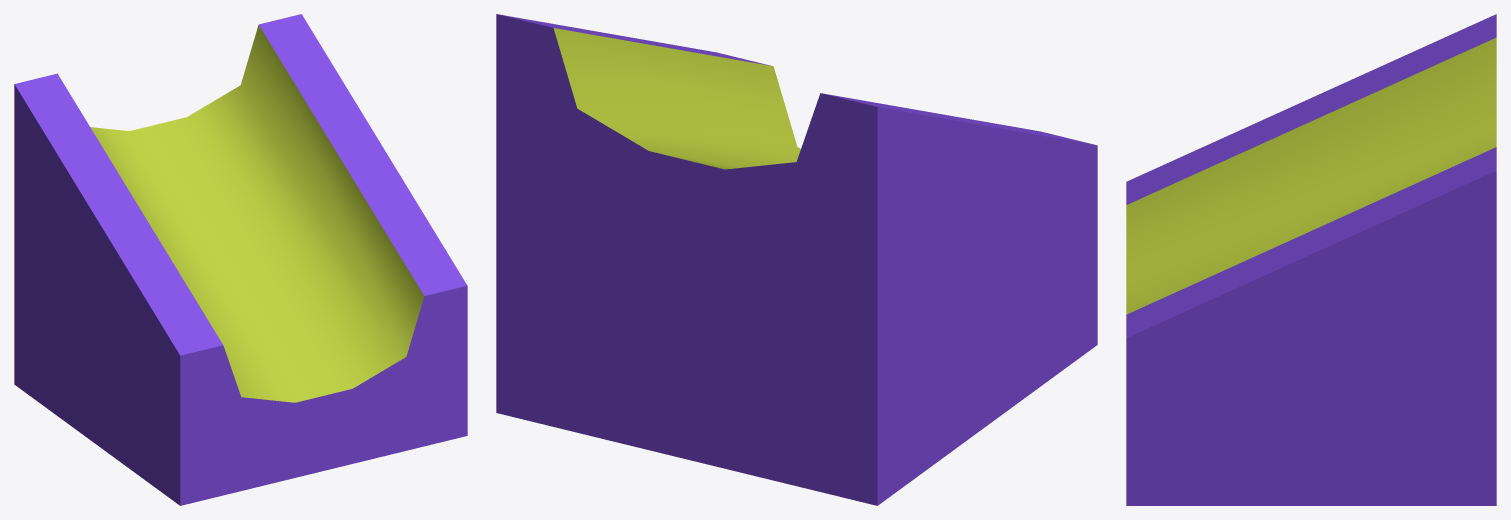
File: slant_solid_B-col.dae
The picture shows the model from 3 angles, left to right: view 1: azimuth 30°, elevation 25°; view 2: azimuth 150°, elevation 25°; view 3: azimuth 270°, elevation 25°; orthographic projection. The views are drawn at different scales.
Visible parts, largest first — view 1: slant_solid_B-col; view 2: slant_solid_B-col; view 3: slant_solid_B-col.
Part boxes in pixels (x1,y1,x2,y2): slant_solid_B-col: [14, 14, 467, 505]; slant_solid_B-col: [496, 14, 1097, 505]; slant_solid_B-col: [1126, 14, 1496, 505].
Size of the model in its own units: 1 by 1 by 1.
